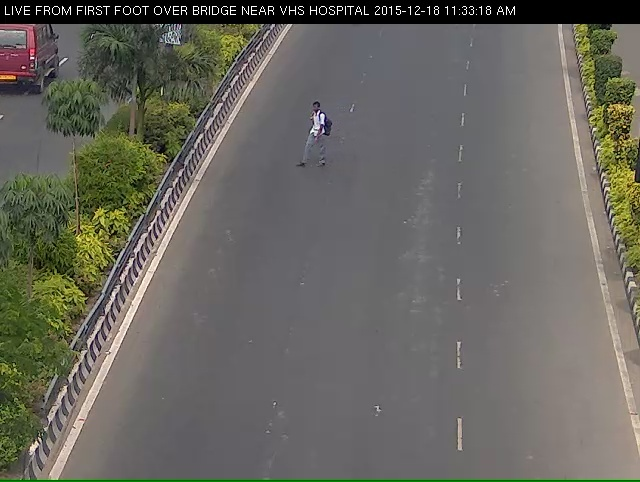Person: (282, 90, 338, 186)
